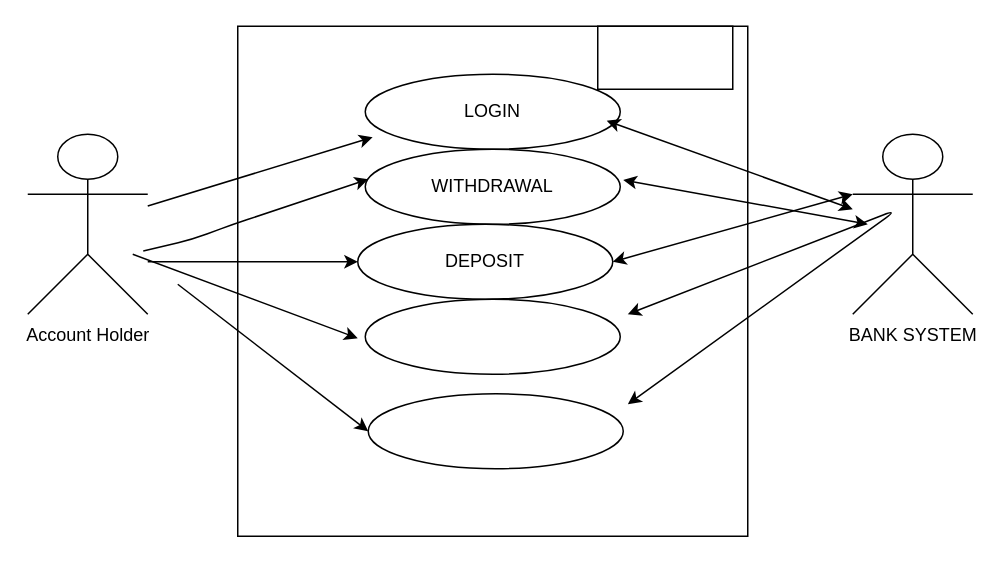
Image size: 1002x563. Some labels were removed from this diagram. The centre of each missing label's shape, as x and y in pixels:
ATM-: (664,57)
CUST. INFO UPDATE,- pin, account closing etc: (495,430)
TRANSFER: (492,336)
